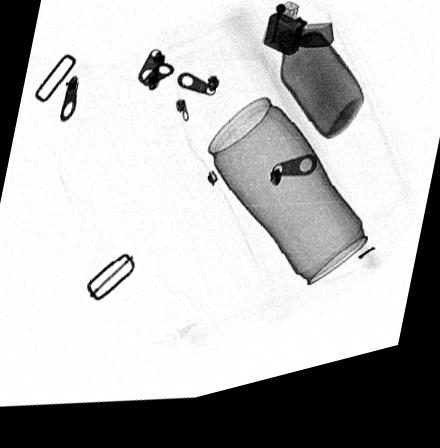Lighter: (262, 15, 334, 71)
